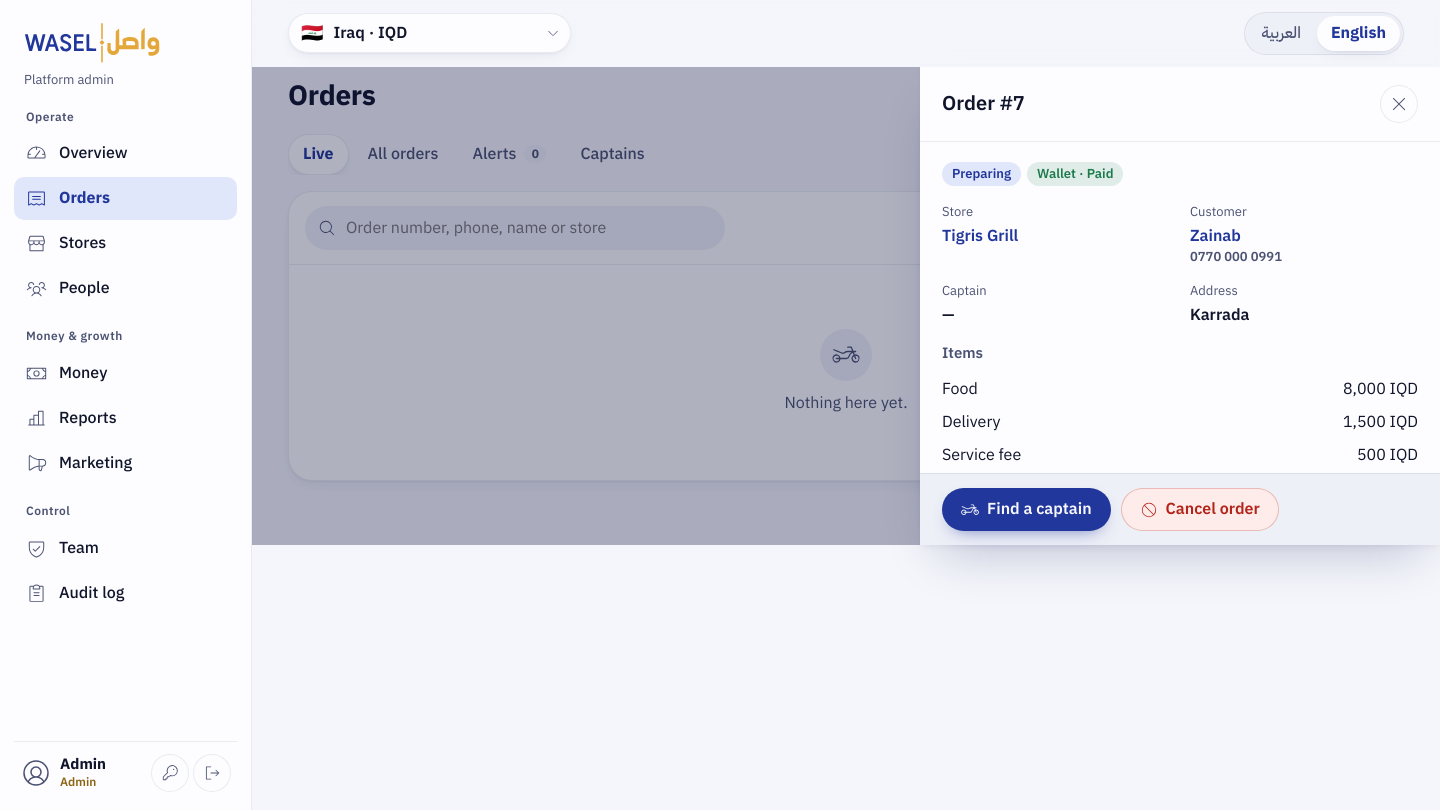
Test: orders › cancelling an order needs a reason
Click the button "Cancel order" at (1200, 510), box [1121,488,1279,531]
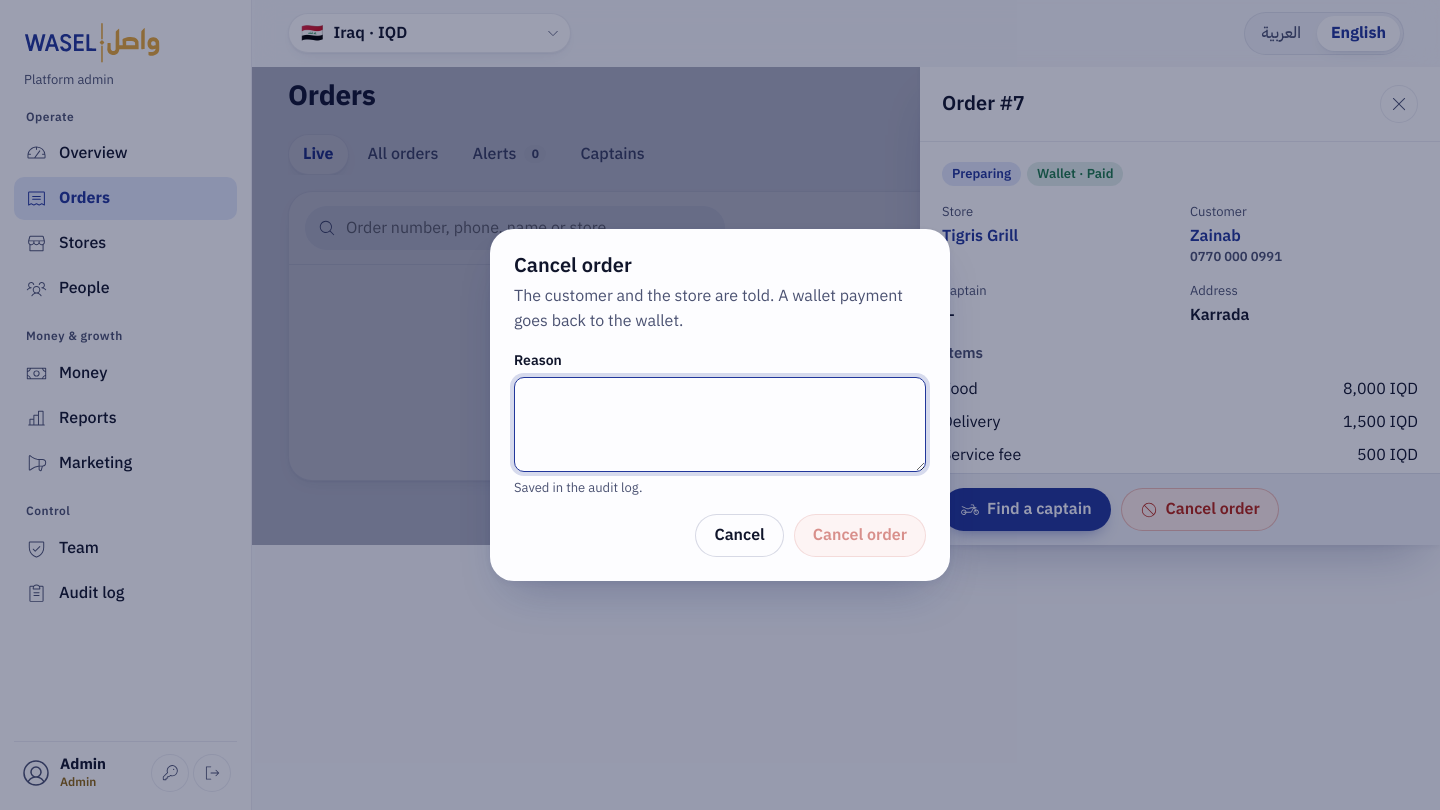
Expected: the button "Cancel order" is disabled, [794,514,926,557]
Type "Store closed" into the text box labelled "Reason" at (720, 425), box [514,378,926,472]
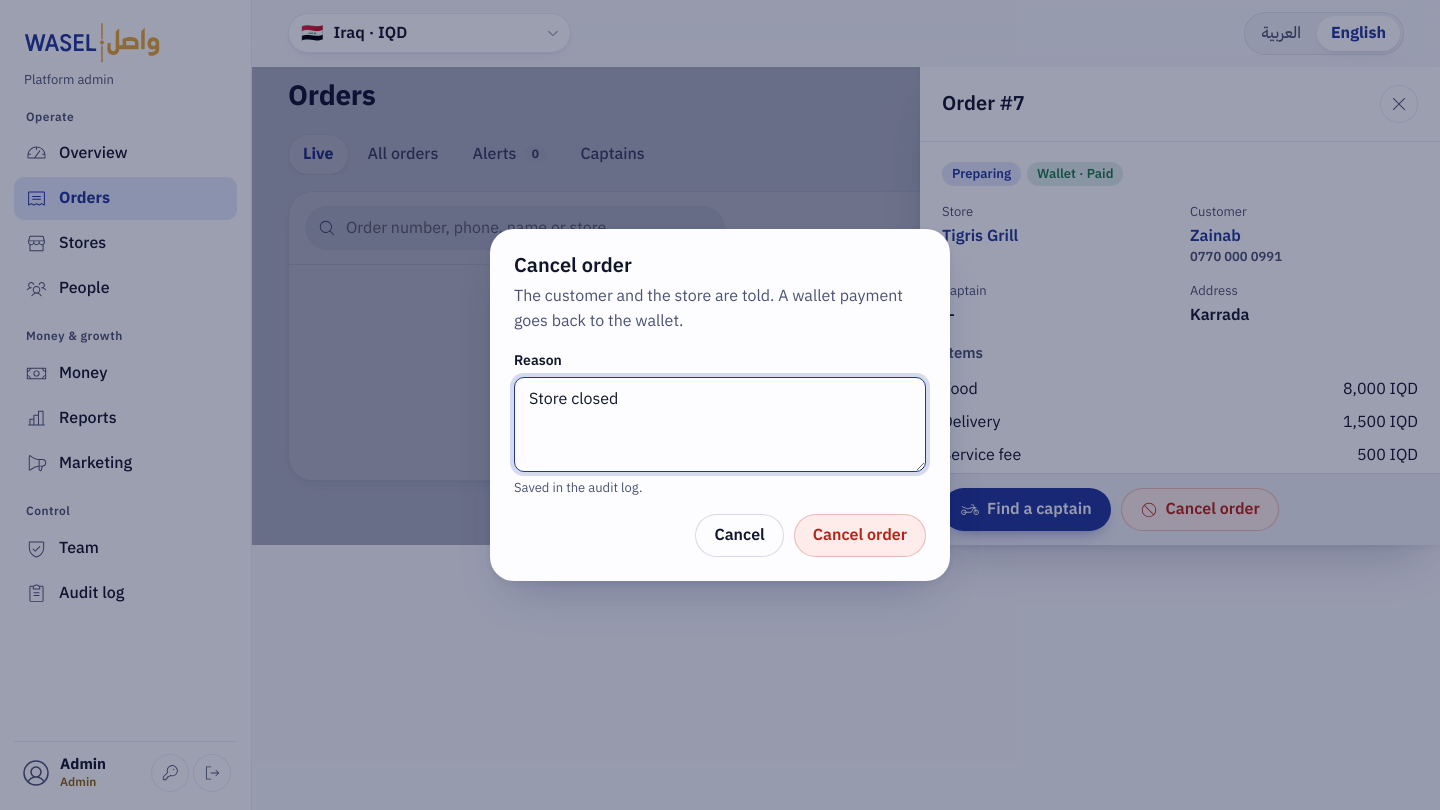
Click the button "Cancel order" at (860, 535), box [794,514,926,557]
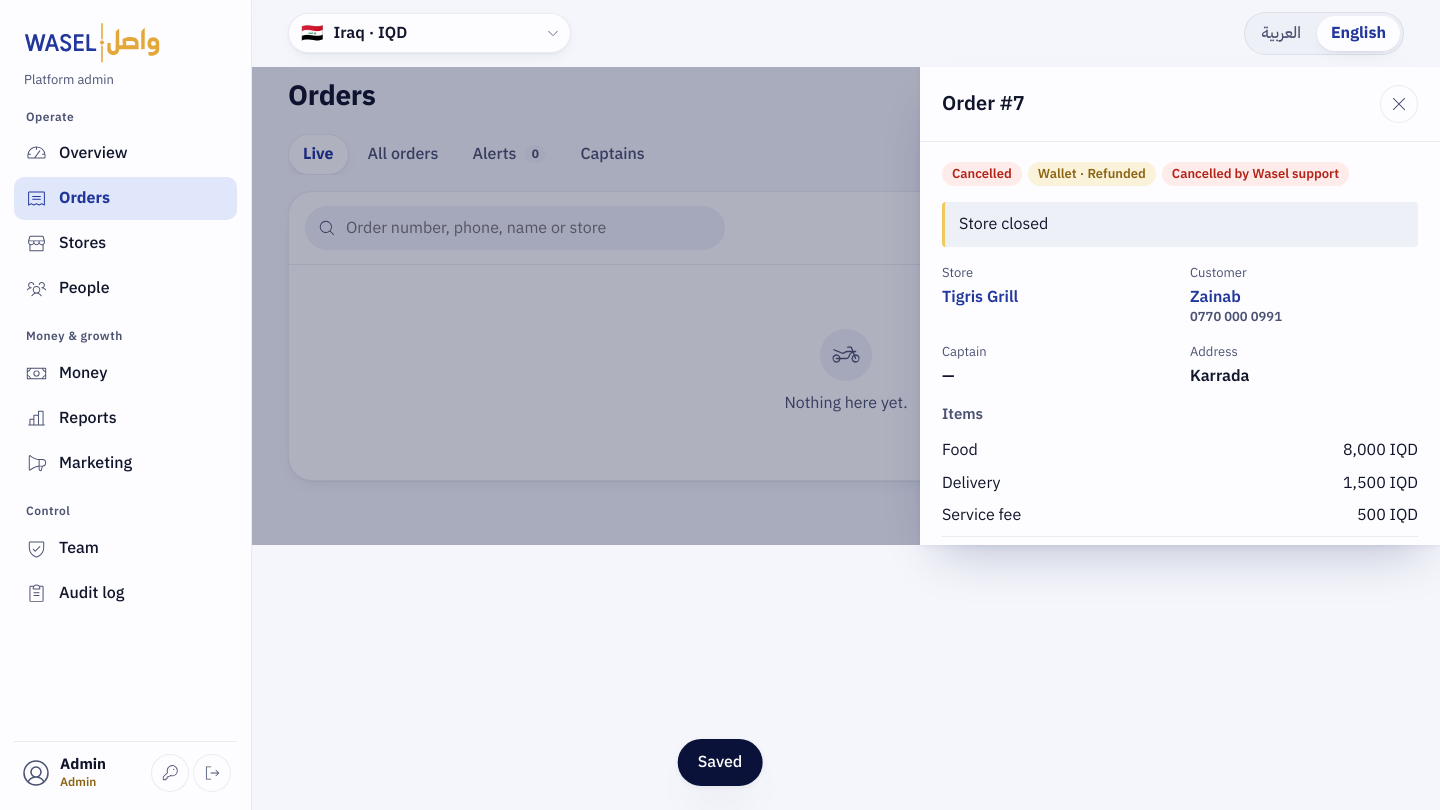
Expected: the text "Cancelled by Wasel support" is shown, [1162,162,1349,186]
